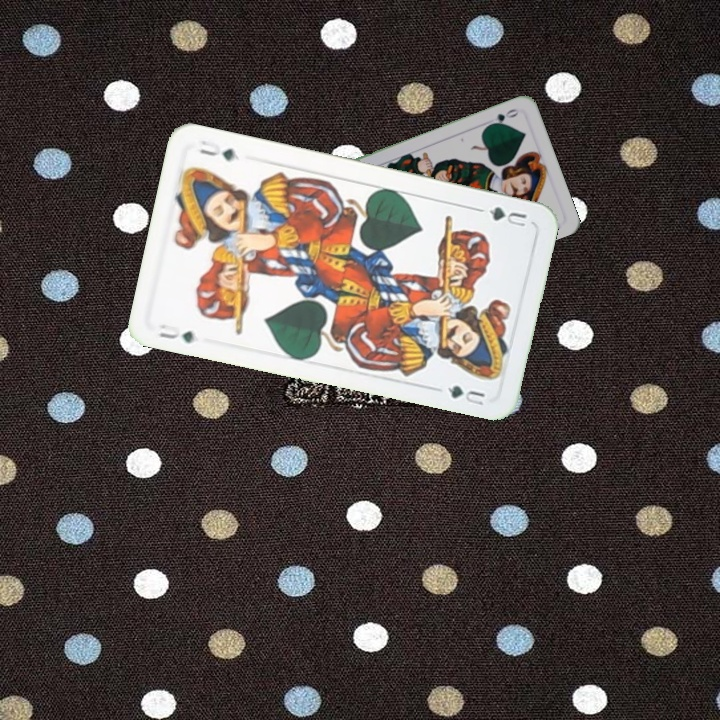GO: (484, 104, 522, 128)
GU: (485, 202, 529, 230), (153, 320, 197, 346)
